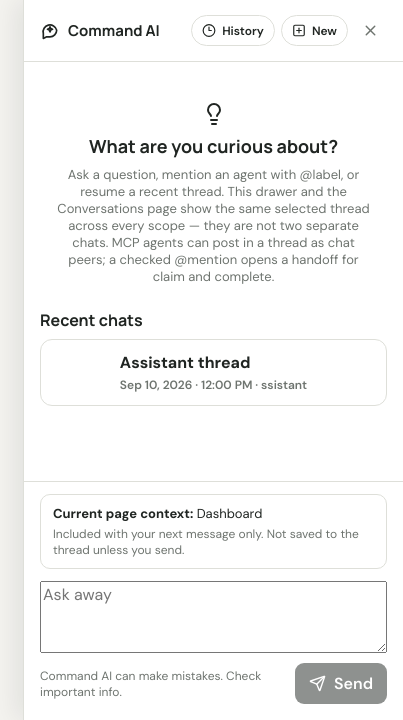
Scenario: CommandAiPanel › shows pending approvals and turn status when the assistant is ready
The image size is (403, 720).
Click the button "Assistant thread Sep 10, 2026 · 12:00 PM · ssistant".
click(214, 372)  # box top-left (40, 339), bottom-right (387, 406)
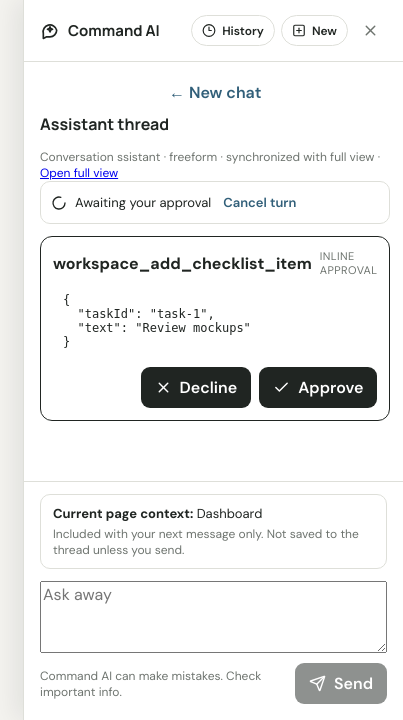
expect the text "Awaiting your approval" is shown: met, box top-left (75, 194), bottom-right (211, 211)
expect the text "workspace_add_checklist_item" is shown: met, box top-left (53, 252), bottom-right (312, 274)
expect the button "Approve" is shown: met, box top-left (259, 367), bottom-right (377, 408)
